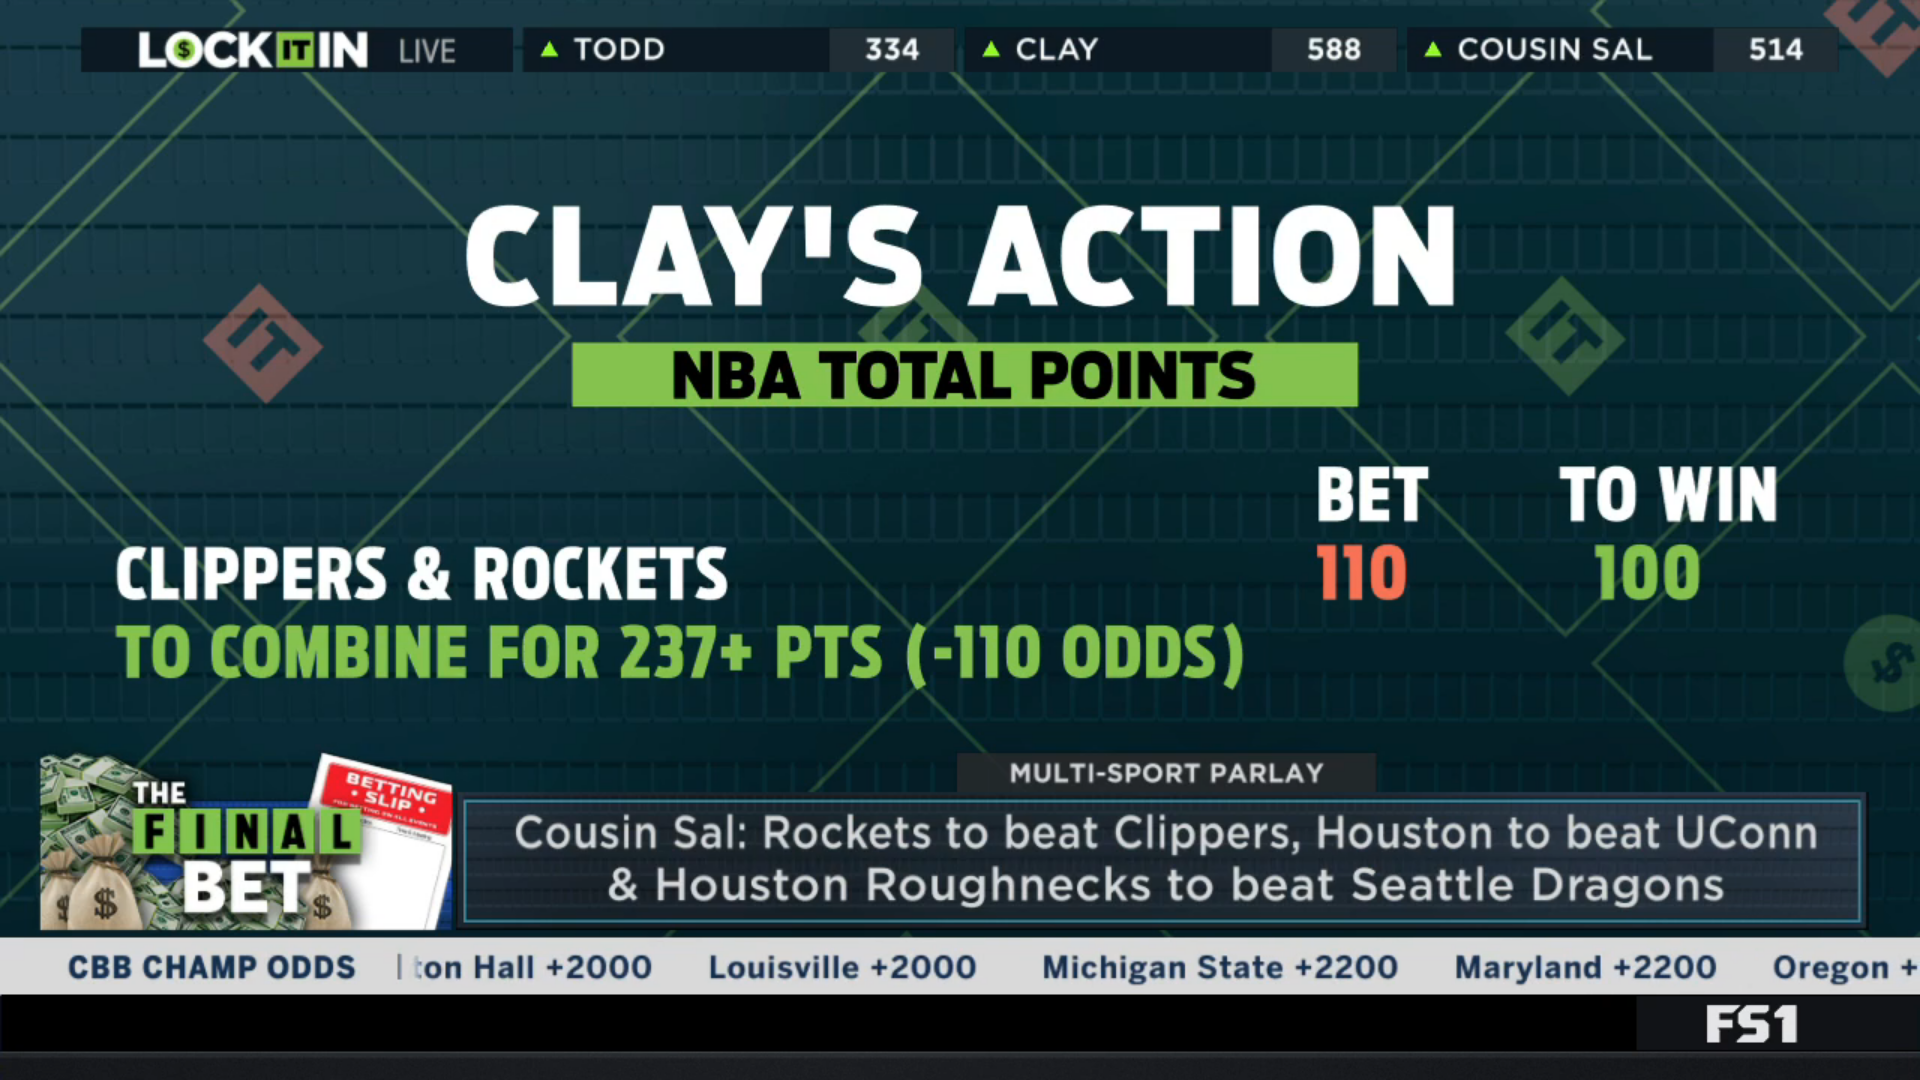Bet: (103, 533, 1257, 702)
Bet Amount: (1308, 454, 1439, 613)
Subtitle: (559, 331, 1371, 417)
Title: (448, 185, 1472, 320)
To Win: (1549, 456, 1792, 611)
Top Bar: (71, 15, 1847, 80)
